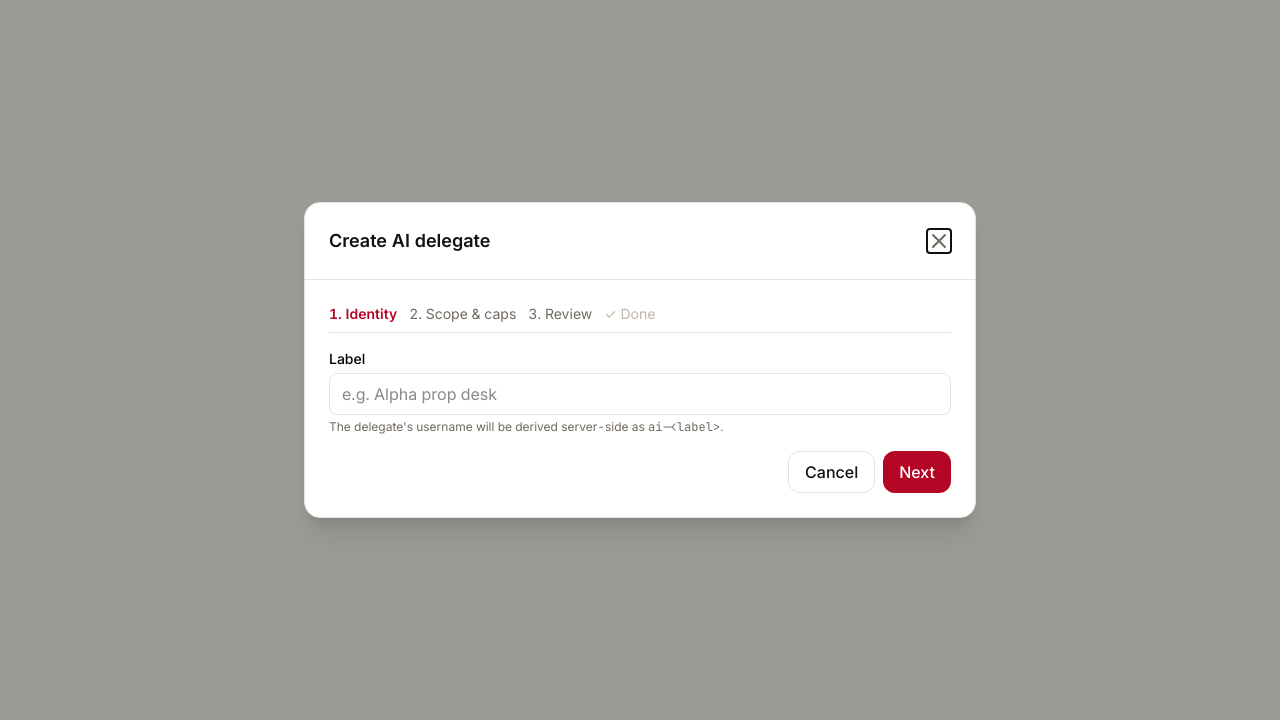
Test: CreateDelegateWizard › shows caps error when JSON is array (not object)
Type "alpha" into the field labelled "Label" at [640, 394], box x1=329 y1=373 x2=951 y2=415
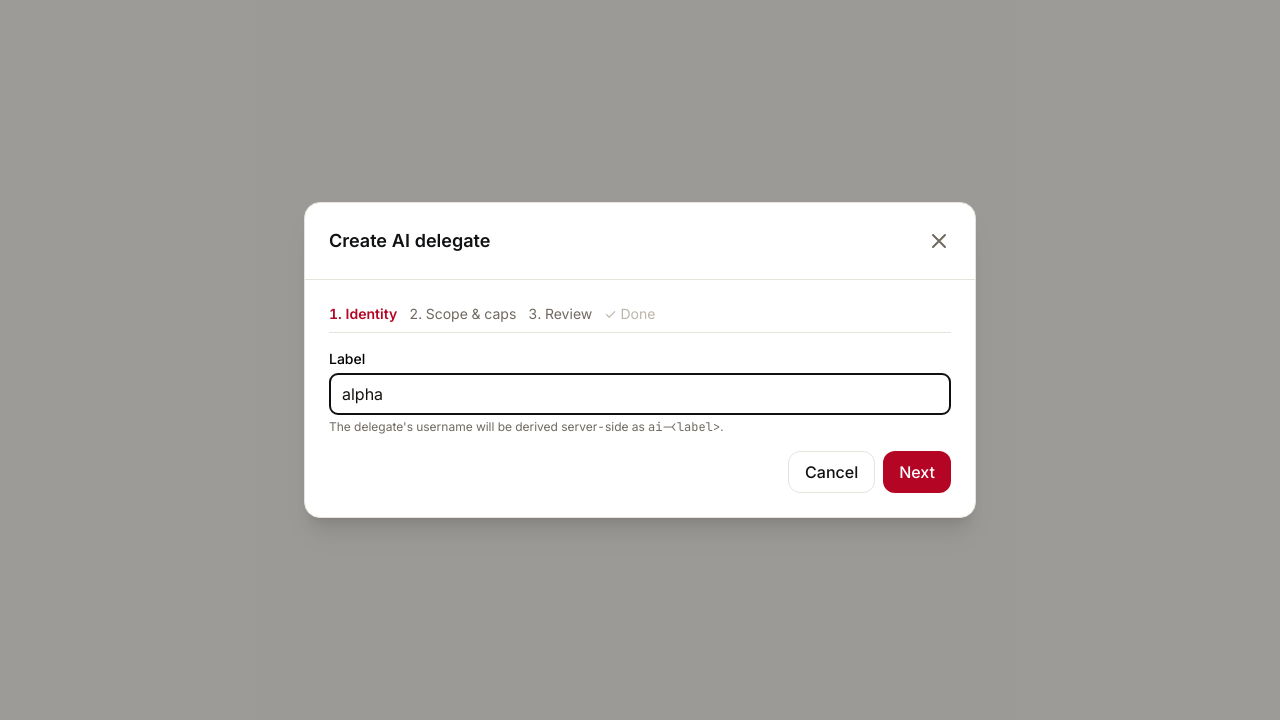
Click the button "Next" at [917, 472], box x1=883 y1=451 x2=951 y2=493
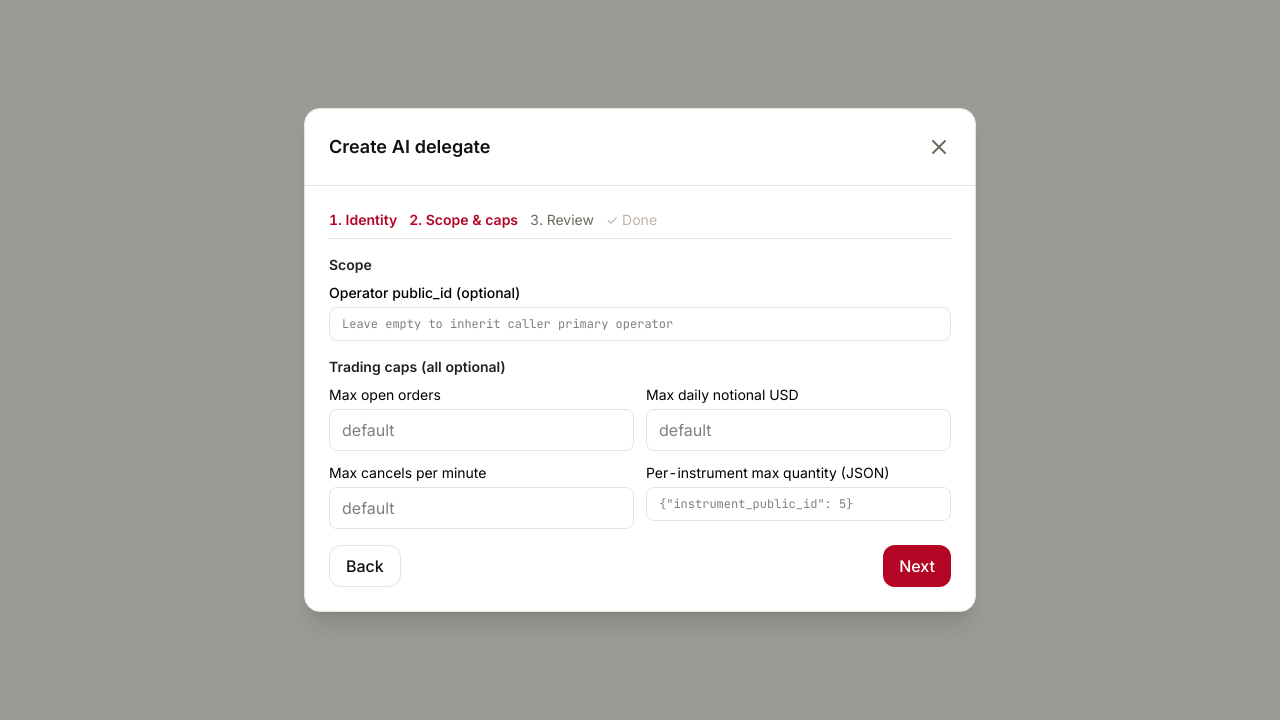
Type "[1,2,3]" into the field labelled "Per-instrument max quantity (JSON)" at [798, 504], box x1=646 y1=487 x2=951 y2=521
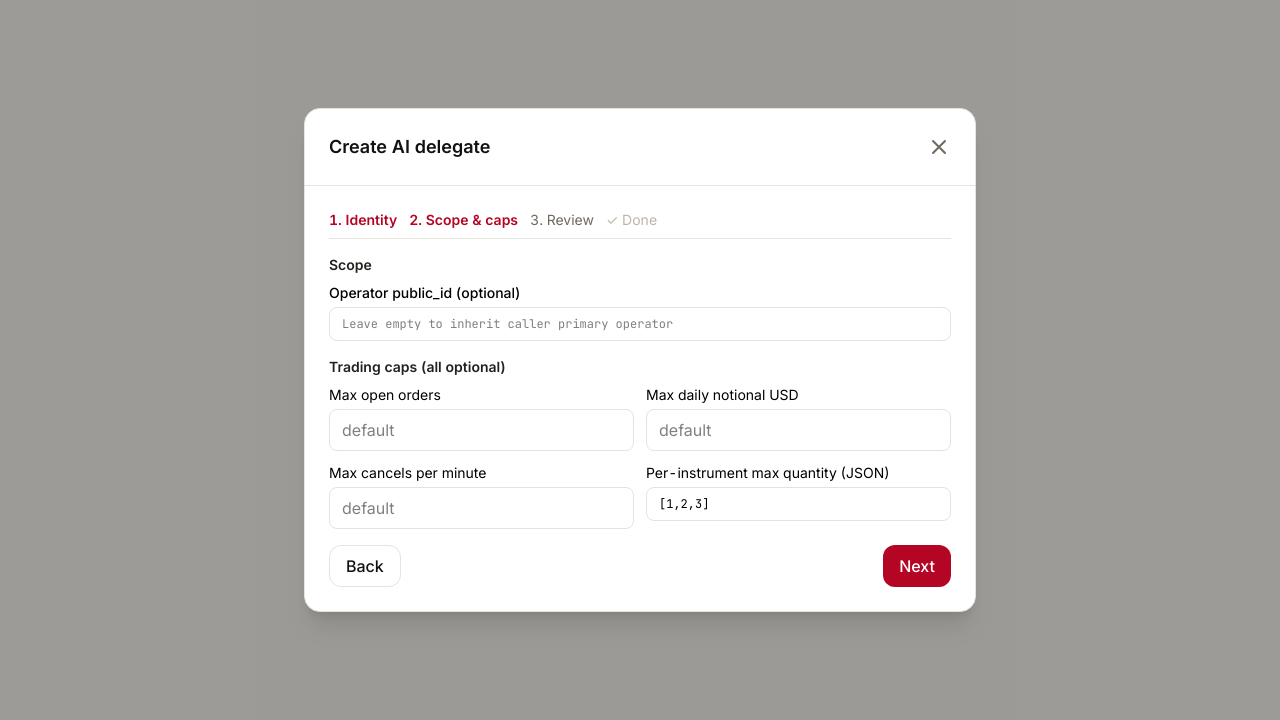
Click the button "Next" at [917, 566], box x1=883 y1=545 x2=951 y2=587
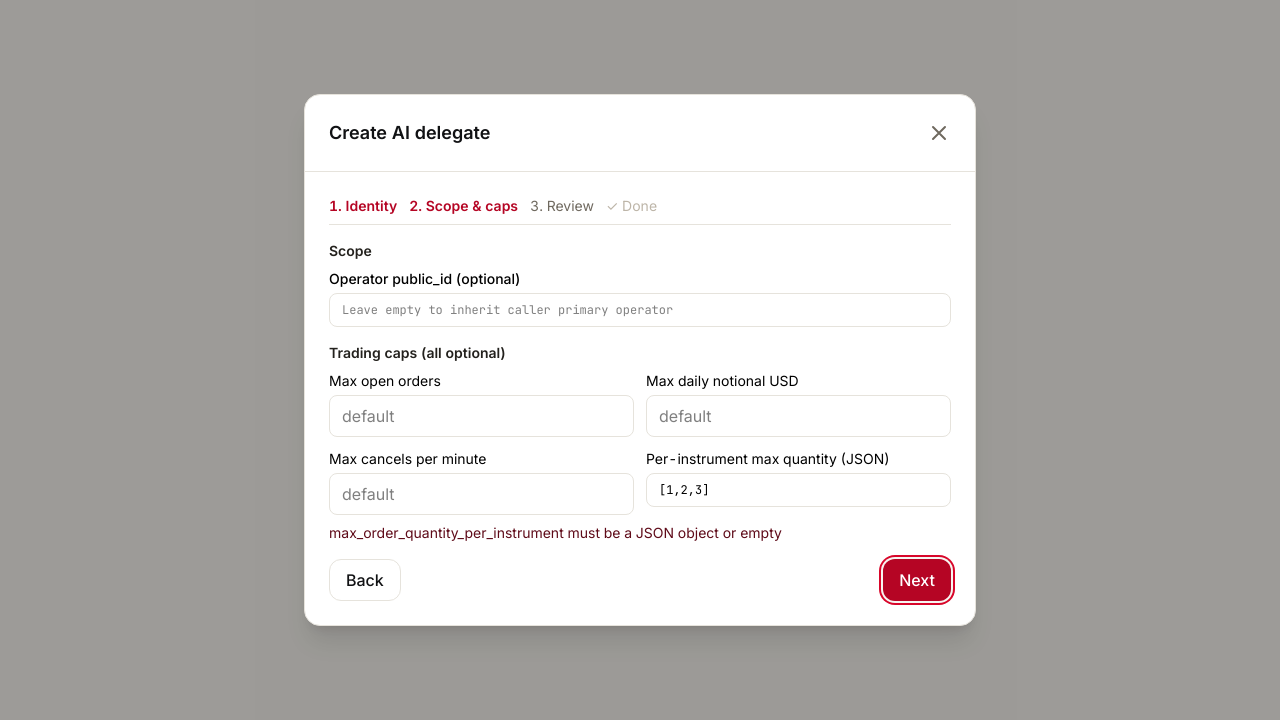
Check: the message shows "JSON object or empty", box x1=329 y1=524 x2=782 y2=541
